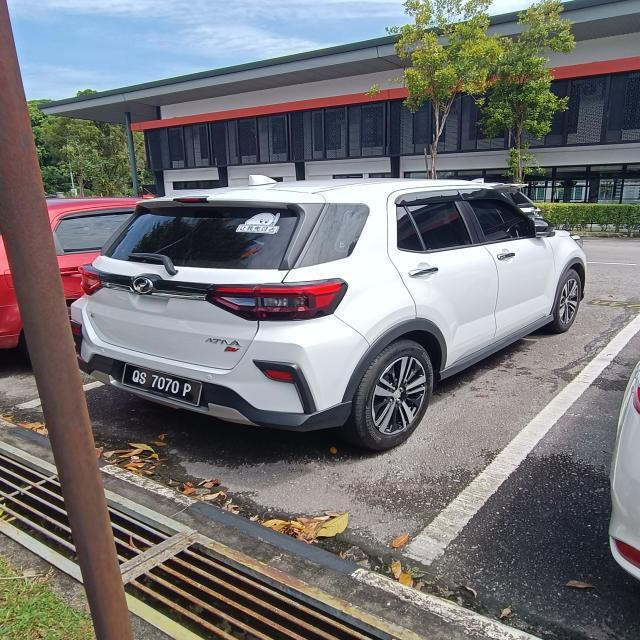PeroduaAtiva: (58, 180, 634, 437)
